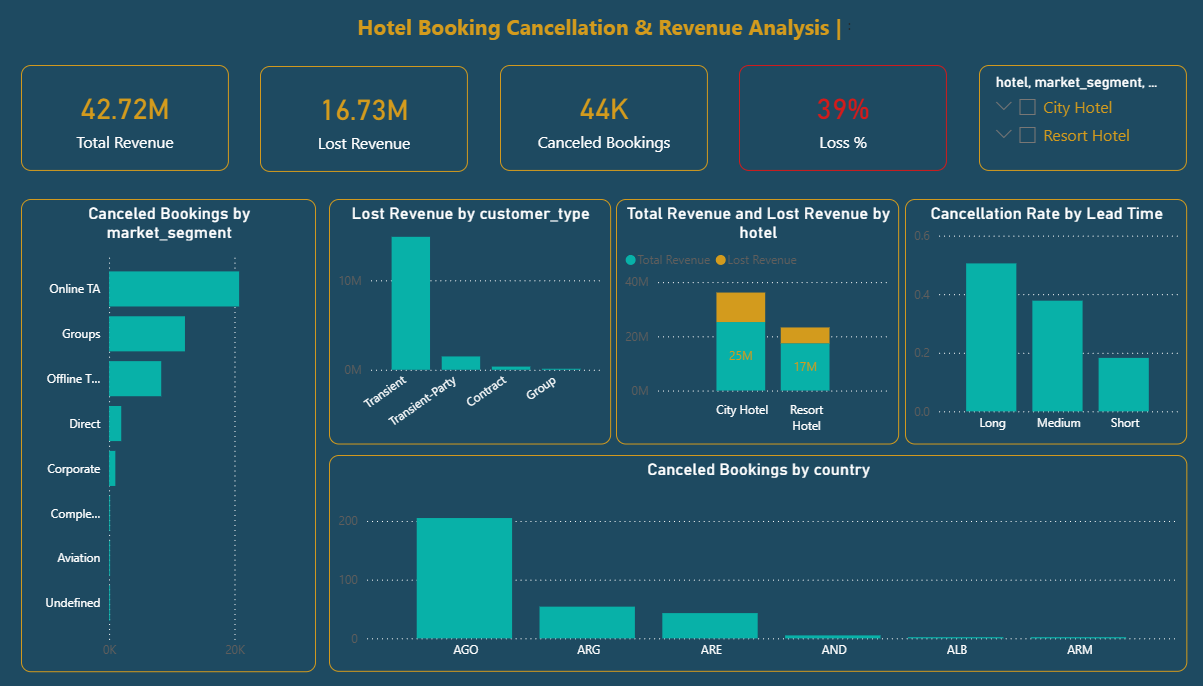

What the dashboard file says about the page in this screenshot:
{"tool":"powerbi","page":{"name":"Page 1","canvas":[1280,720],"ordinal":0},"visuals":[{"type":"card","fields":{"Values":["hotel_project.Total Revenue"]},"box":[21.2,91.9,210,107],"z":0},{"type":"card","fields":{"Values":["hotel_project.Lost Revenue"]},"box":[263.1,92.9,210,107],"z":1000},{"type":"card","fields":{"Values":["hotel_project.Loss %"]},"box":[746.9,91.9,210.1,107.1],"z":2000},{"type":"card","fields":{"Values":["hotel_project.Canceled Bookings"]},"box":[504.9,91.9,210.1,107.1],"z":3000},{"type":"barChart","fields":{"Category":["hotel_project.market_segment"],"Y":["hotel_project.Canceled Bookings"]},"box":[21.2,227.3,298,477.8],"z":4000},{"type":"clusteredColumnChart","title":"Cancellation Rate by Lead Time","fields":{"Y":["Avg(hotel_project.is_canceled)"],"Category":["hotel_project.lead_time_category"]},"box":[914.1,227.3,284.8,248.5],"z":5000},{"type":"clusteredColumnChart","fields":{"Category":["hotel_project.customer_type"],"Y":["hotel_project.Lost Revenue"]},"box":[332.3,227.3,284.8,248.5],"z":7000},{"type":"columnChart","fields":{"Category":["hotel_project.hotel"],"Y":["hotel_project.Total Revenue","hotel_project.Lost Revenue"]},"box":[622.2,227.3,285.9,248.5],"z":8000},{"type":"clusteredColumnChart","fields":{"Category":["hotel_project.country"],"Y":["hotel_project.Canceled Bookings"]},"box":[332.3,485.9,866.7,219.2],"z":9000},{"type":"slicer","fields":{"Values":["hotel_project.hotel","hotel_project.market_segment","hotel_project.arrival_date_week_number"]},"box":[988.9,91.9,210.1,107.1],"z":10000},{"type":"textbox","box":[21.2,28.3,1177.8,48.5],"z":11000}]}

Visuals, with their boxes in screenshot pixels (x1, y1, x2, y2), scaled from the page's 1280x720 canvas onto the 1203x686 screenshot:
card - hotel_project.Total Revenue: (20,88,217,190)
card - hotel_project.Lost Revenue: (247,89,445,190)
card - hotel_project.Loss %: (702,88,899,190)
card - hotel_project.Canceled Bookings: (475,88,672,190)
barChart - hotel_project.market_segment x hotel_project.Canceled Bookings: (20,217,300,672)
"Cancellation Rate by Lead Time" clusteredColumnChart: (859,217,1127,453)
clusteredColumnChart - hotel_project.customer_type x hotel_project.Lost Revenue: (312,217,580,453)
columnChart - hotel_project.hotel x hotel_project.Total Revenue: (585,217,853,453)
clusteredColumnChart - hotel_project.country x hotel_project.Canceled Bookings: (312,463,1127,672)
slicer - hotel_project.hotel x hotel_project.market_segment: (929,88,1127,190)
textbox: (20,27,1127,73)
